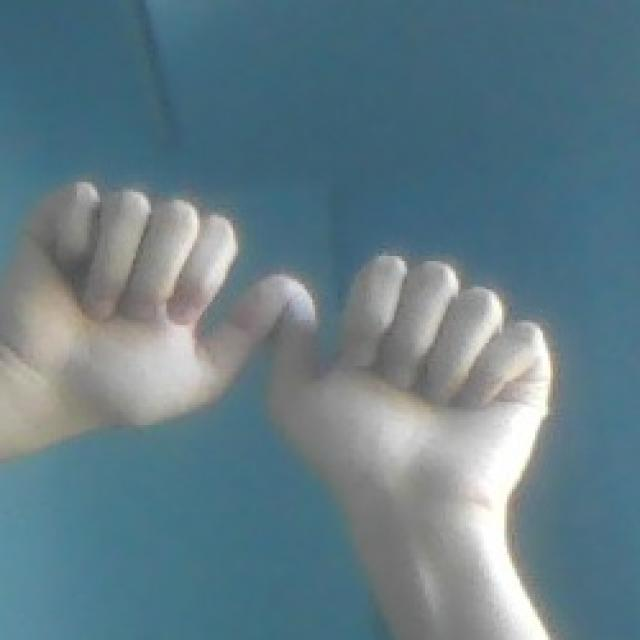Alphabet-A: (14, 175, 567, 506)
